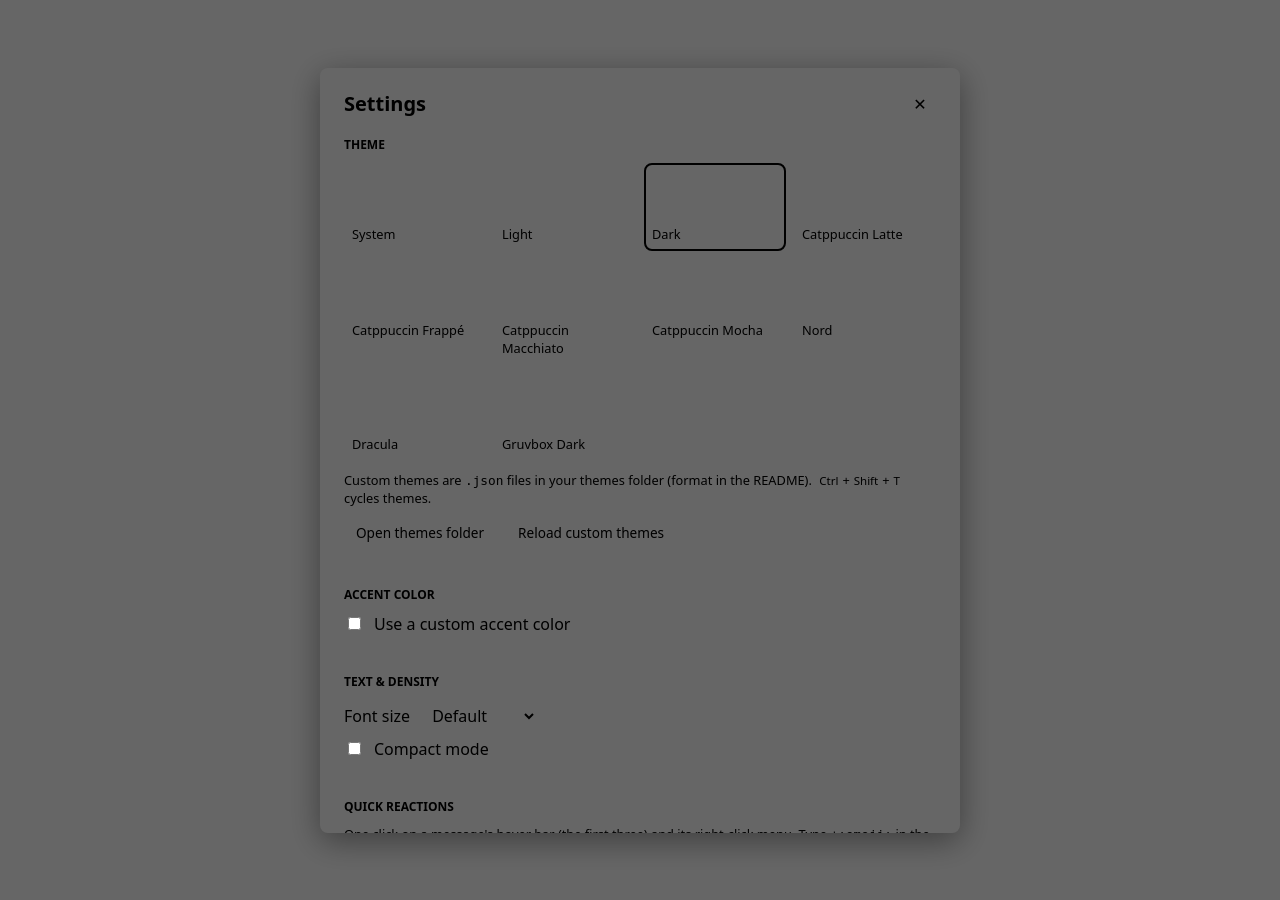
SettingsModal › toggles compact mode and the custom accent
Click the checkbox labelled "Compact mode".
click(354, 748)  # box top-left (348, 742), bottom-right (361, 755)
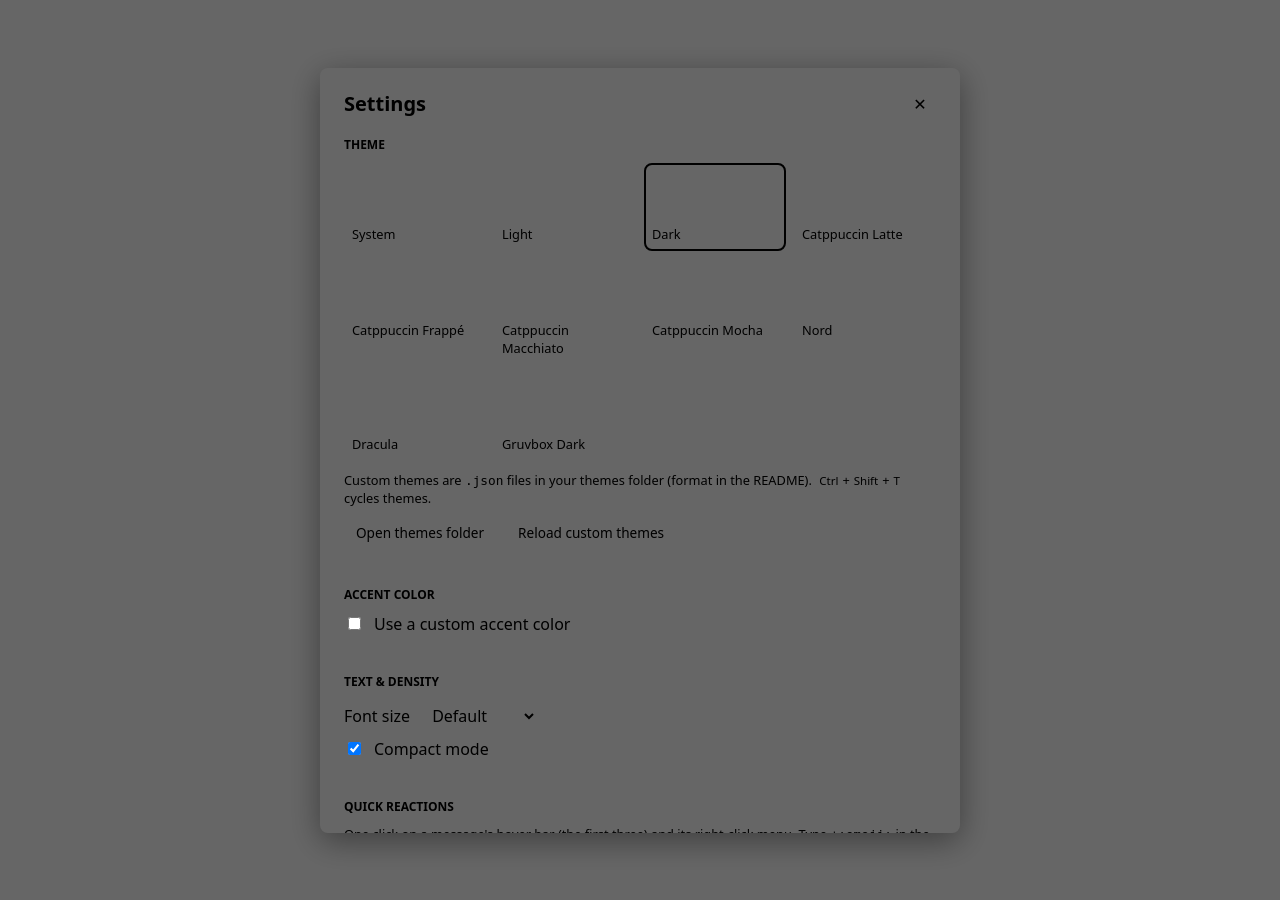
Click the checkbox labelled "Use a custom accent color".
click(354, 624)  # box top-left (348, 617), bottom-right (361, 630)
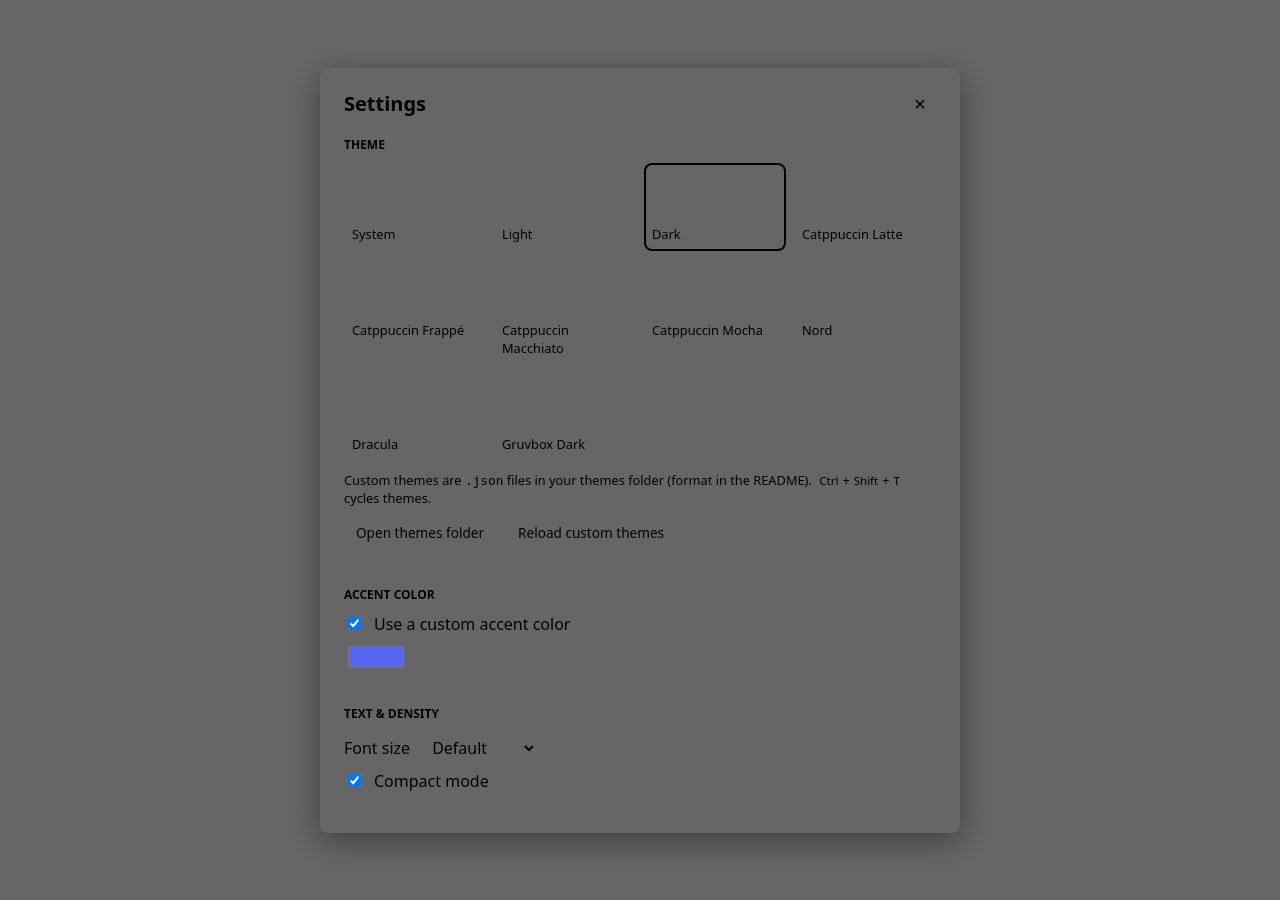
Check: the colour field named "Accent color" is shown, box top-left (344, 640), bottom-right (408, 672)
